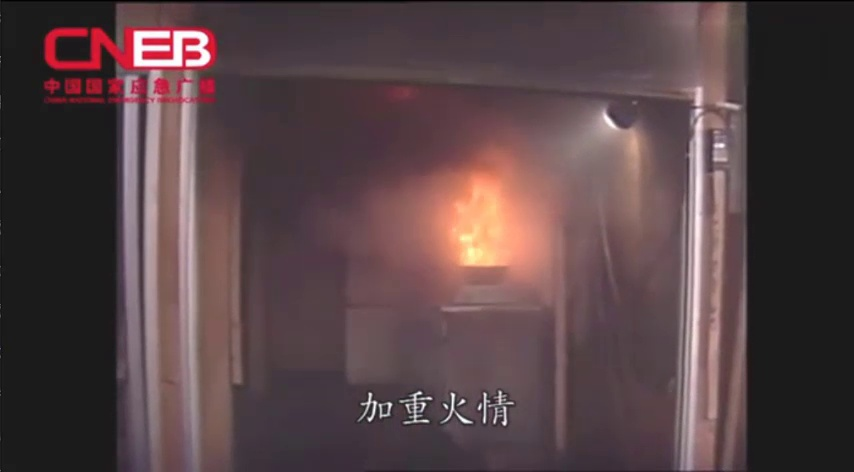fire: (437, 142, 523, 283)
